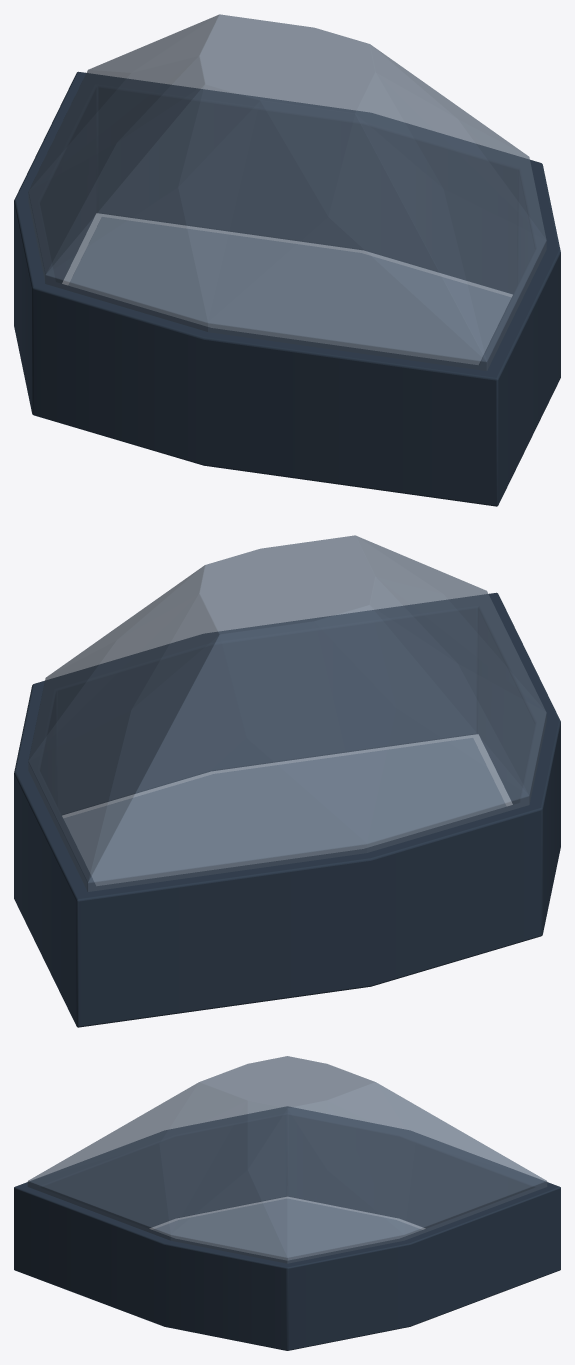
Rendered from mana-crystal-spent.glb.
3 renders of one model, top to bottom at view 1: azimuth 30°, elevation 25°; view 2: azimuth 150°, elevation 25°; view 3: azimuth 270°, elevation 25°, orthographic. The views are drawn at different scales.
Parts seen in each view (by area): view 1: MODEL_Blackened silver basket, MODEL_Brilliant cut sapphire, MODEL_Pavilion reflector; view 2: MODEL_Blackened silver basket, MODEL_Brilliant cut sapphire, MODEL_Pavilion reflector; view 3: MODEL_Blackened silver basket, MODEL_Brilliant cut sapphire, MODEL_Pavilion reflector.
Part boxes in pixels (x1=…): MODEL_Blackened silver basket: x1=14, y1=71, x2=560, y2=506; MODEL_Brilliant cut sapphire: x1=28, y1=14, x2=546, y2=370; MODEL_Pavilion reflector: x1=69, y1=217, x2=510, y2=364; MODEL_Blackened silver basket: x1=14, y1=592, x2=560, y2=1027; MODEL_Brilliant cut sapphire: x1=28, y1=535, x2=546, y2=891; MODEL_Pavilion reflector: x1=64, y1=738, x2=505, y2=885; MODEL_Blackened silver basket: x1=14, y1=1106, x2=560, y2=1350; MODEL_Brilliant cut sapphire: x1=27, y1=1056, x2=547, y2=1263; MODEL_Pavilion reflector: x1=153, y1=1199, x2=421, y2=1260.
Bounding box in the file's own units: 0.0295 × 0.016 × 0.0421.
